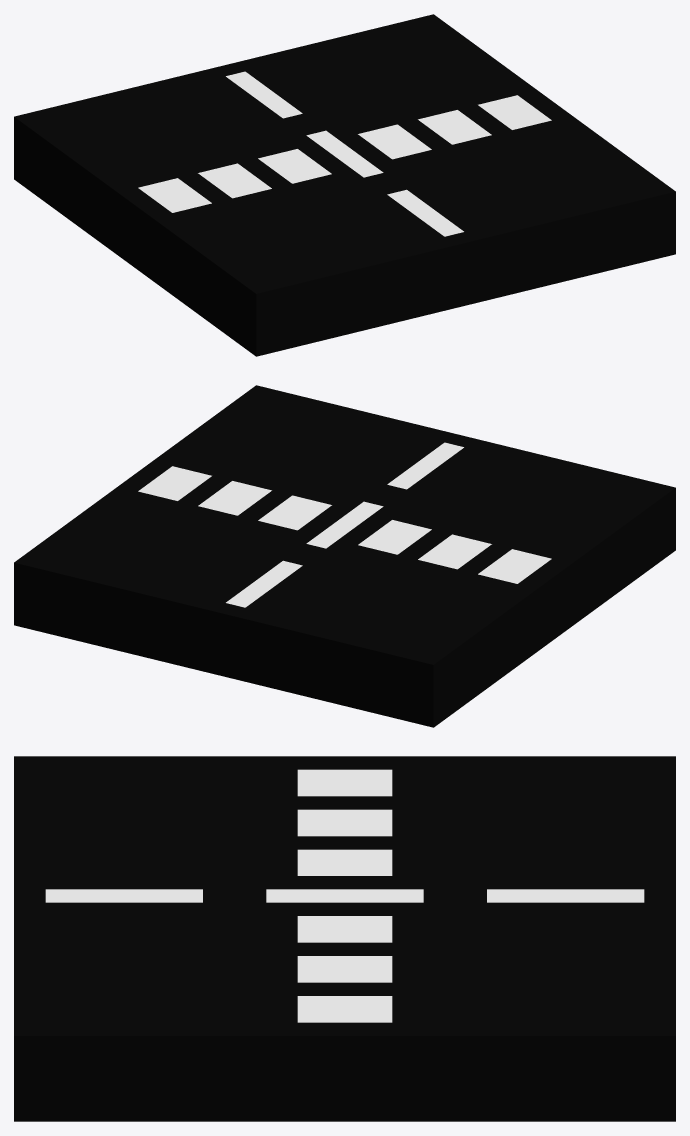
File: Exports-6.obj
3 renders of one model, top to bottom at view 1: azimuth 30°, elevation 25°; view 2: azimuth 150°, elevation 25°; view 3: azimuth 270°, elevation 25°, orthographic. The views are drawn at different scales.
Bounding box in the file's own units: 2.1 × 0.3 × 2.1.
Materials: 1 (1 with a texture image).
